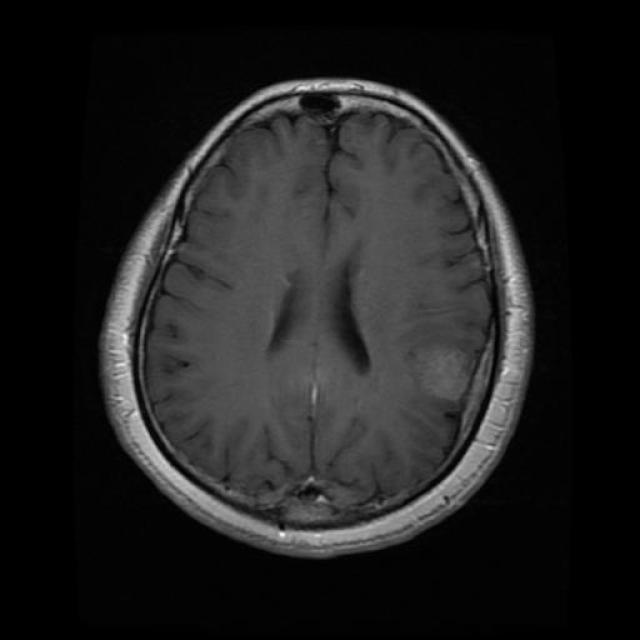meningioma: (422, 349, 469, 401)
